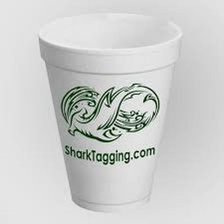paper_cup: (33, 8, 187, 216)
